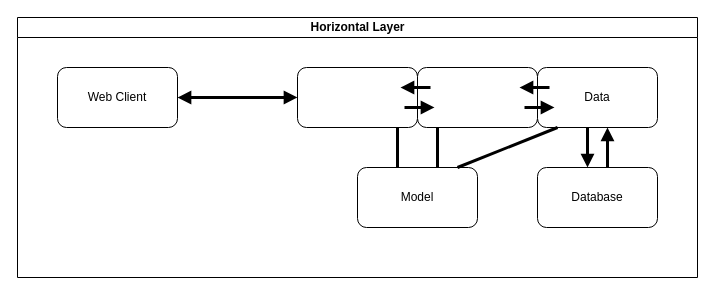
The diagram is 715 pixels wide and 295 high, and some of its shapes have lost their labels. Here are the shapes that lost their labels. From the top down, the centre of each, then its label:
At [357,97]: "Web".
At [477,97]: "Service".
